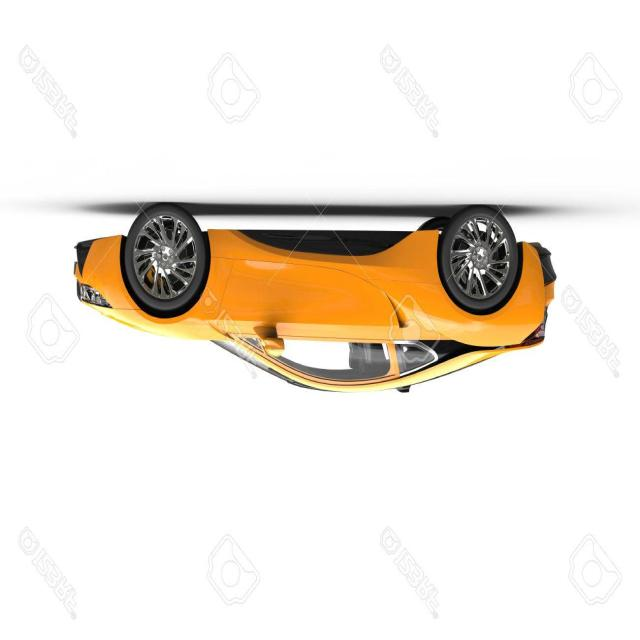Car: (73, 202, 556, 396)
